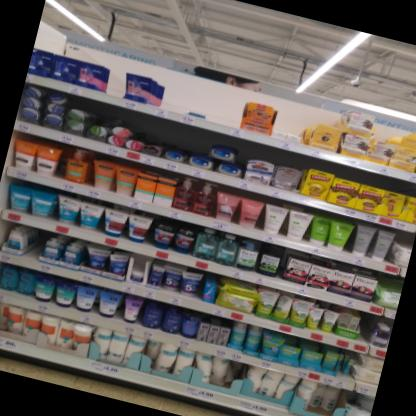empty_space: (206, 82, 248, 128), (158, 70, 194, 112), (105, 55, 133, 98), (23, 226, 47, 261)
